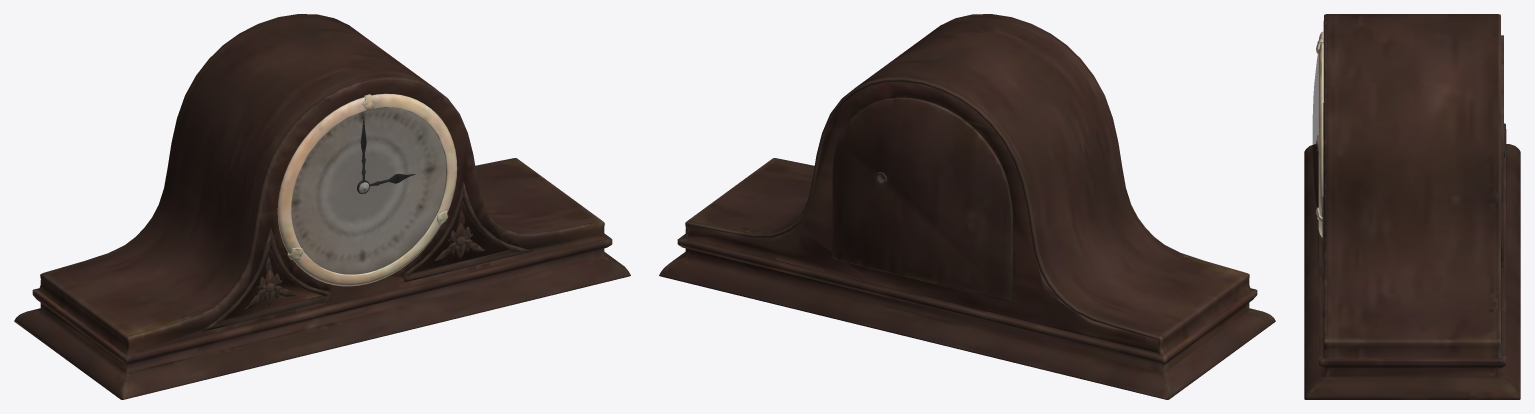
Rendered from mantel_clock_01.glb.
3 views of the same model, side by side, from view 1: azimuth 30°, elevation 25°; view 2: azimuth 150°, elevation 25°; view 3: azimuth 270°, elevation 25° (orthographic).
Parts seen in each view (by area): view 1: mantel_clock_01, mantel_clock_01_glass; view 2: mantel_clock_01; view 3: mantel_clock_01, mantel_clock_01_glass.
Part boxes in pixels (box(x1,y1,x2,y2)): mantel_clock_01: box(14, 14, 630, 399); mantel_clock_01_glass: box(291, 108, 446, 274); mantel_clock_01: box(659, 14, 1275, 399); mantel_clock_01: box(1304, 14, 1520, 399); mantel_clock_01_glass: box(1312, 54, 1318, 207).
Size of the model in its own units: 0.3423 by 0.1604 by 0.1261.
Materials: 2 (2 with a texture image).
